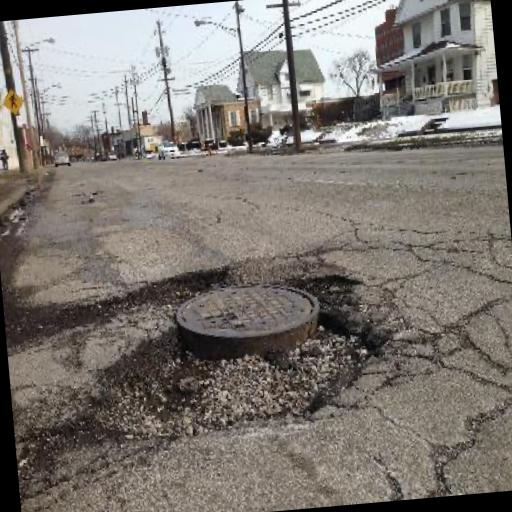pothole: (78, 268, 394, 452), (134, 262, 236, 311)
